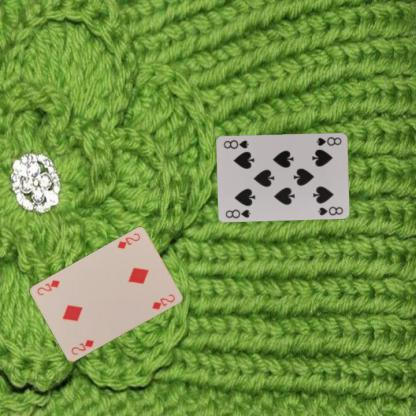2d: (114, 231, 141, 250), (69, 337, 95, 356)
8s: (314, 134, 342, 147), (223, 207, 252, 219)
